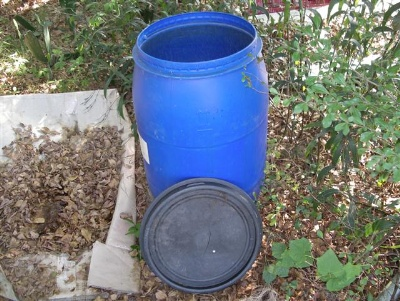bucket: (131, 11, 269, 202)
plate: (138, 176, 263, 295)
